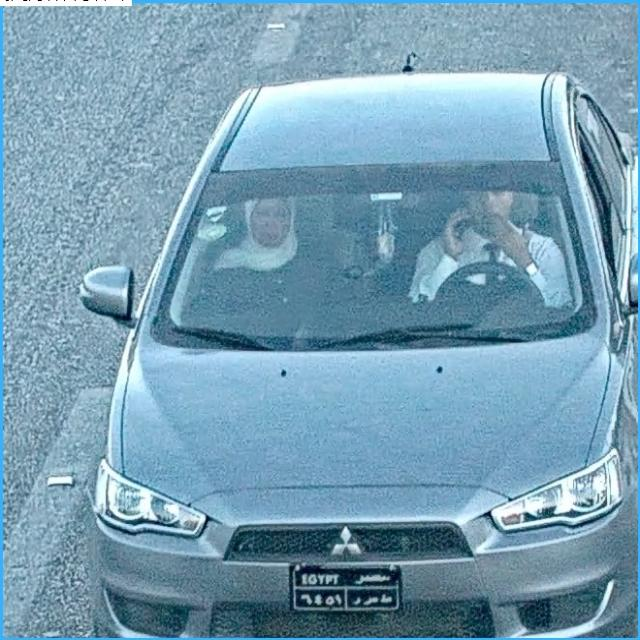windshield: (161, 166, 593, 335)
